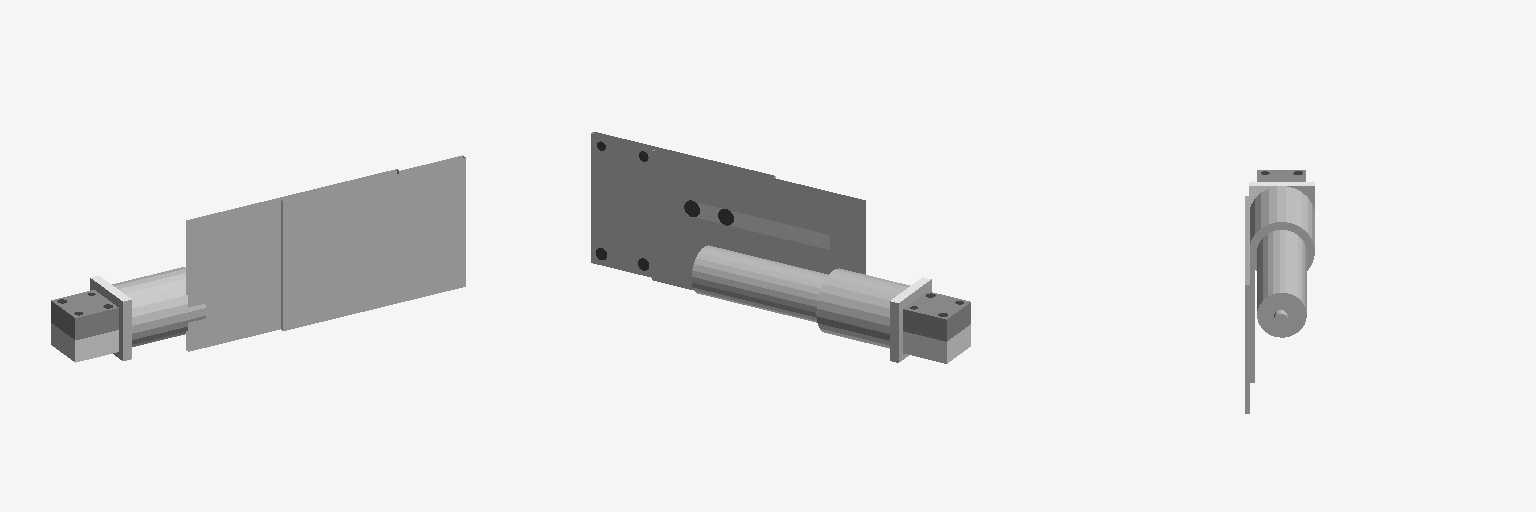
Rendered from ZComponent.obj.
The picture shows the model from 3 angles: view 1: azimuth 30°, elevation 25°; view 2: azimuth 150°, elevation 25°; view 3: azimuth 270°, elevation 25°; orthographic projection.
Visible parts, largest first — view 1: Mesh1 Group1 Model, Mesh2 Group1 Model; view 2: Mesh1 Group1 Model, Mesh2 Group1 Model; view 3: Mesh2 Group1 Model, Mesh1 Group1 Model.
Boxes of the visible parts, box(x1,y1,x2,y2) form: Mesh1 Group1 Model: box(186, 155, 465, 351); Mesh2 Group1 Model: box(51, 267, 205, 362); Mesh1 Group1 Model: box(591, 132, 865, 289); Mesh2 Group1 Model: box(692, 245, 970, 363); Mesh2 Group1 Model: box(1249, 170, 1314, 337); Mesh1 Group1 Model: box(1245, 196, 1254, 413).
Size of the model in its own units: 4.25 by 1.37 by 0.6765.